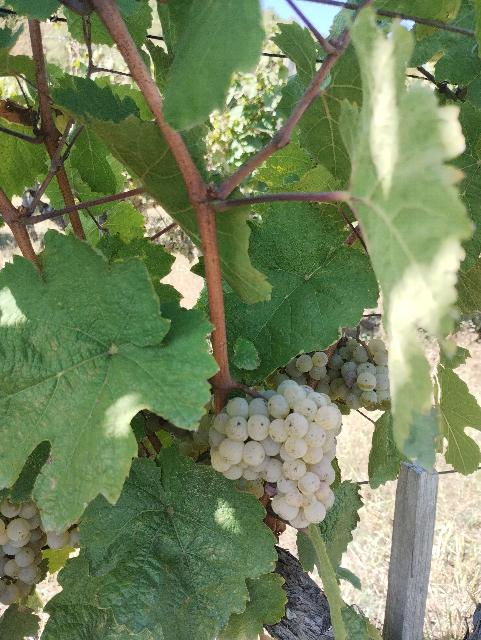grapes: (209, 379, 342, 530), (276, 339, 391, 410)
